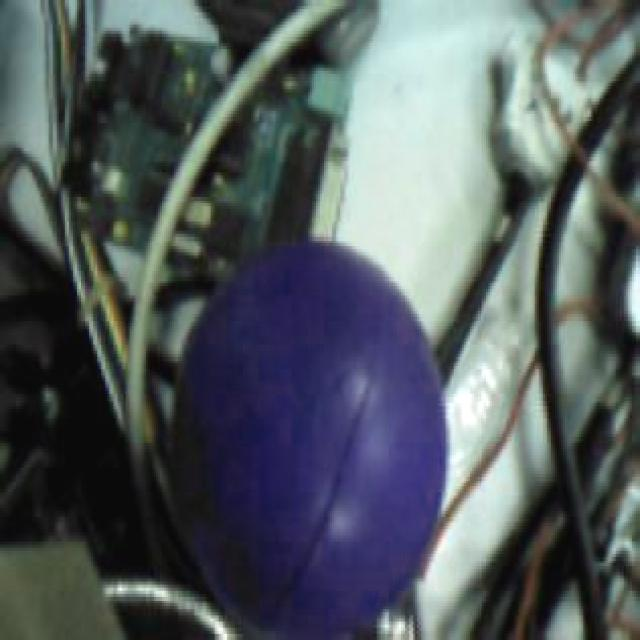BallPurple: (176, 240, 446, 640)
